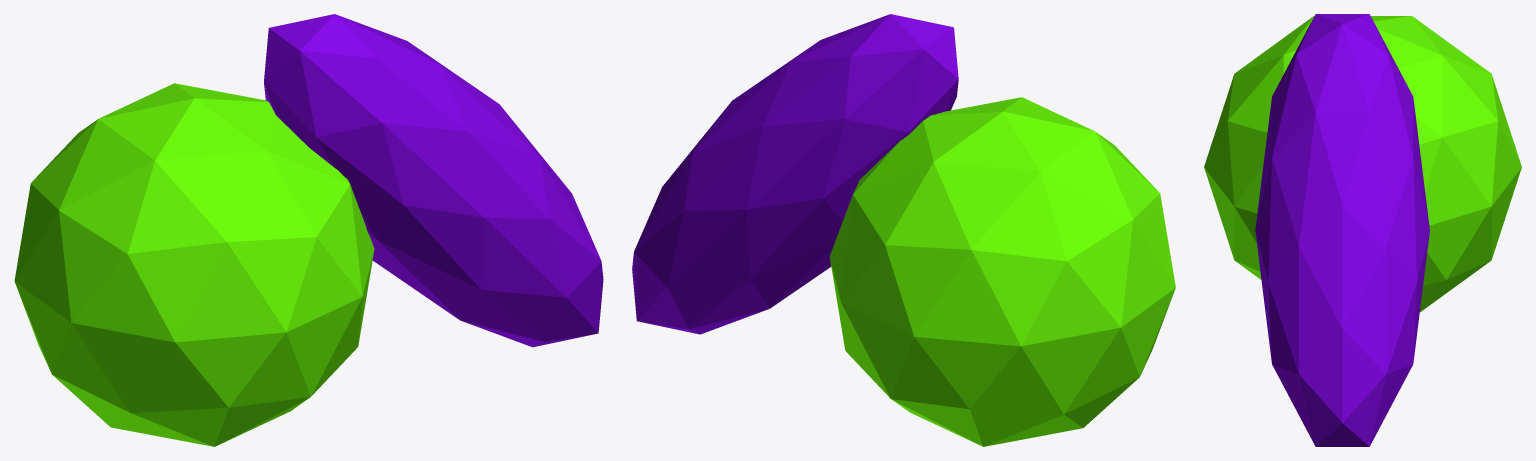
Rendered from SmartVegetables.fbx.
3 views of the same model, side by side, from view 1: azimuth 30°, elevation 25°; view 2: azimuth 150°, elevation 25°; view 3: azimuth 270°, elevation 25° (orthographic). The views are drawn at different scales.
Visible parts, largest first — view 1: SmartVegetables; view 2: SmartVegetables; view 3: SmartVegetables.
Part boxes in pixels (<box>): SmartVegetables: <box>14,14,603,446</box>; SmartVegetables: <box>632,14,1175,446</box>; SmartVegetables: <box>1204,14,1521,446</box>.
Size of the model in its own units: 42.94 by 24.94 by 29.55.
